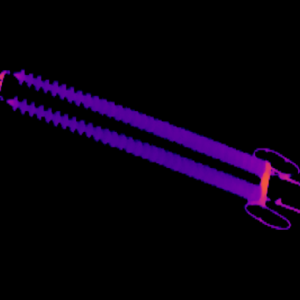insulator: (12, 63, 266, 180), (6, 91, 262, 204)
